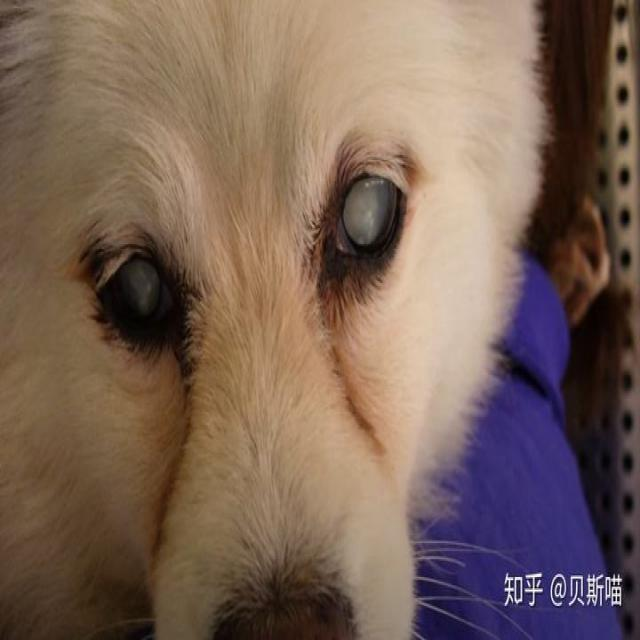eye: (89, 231, 181, 356), (326, 159, 406, 271)
